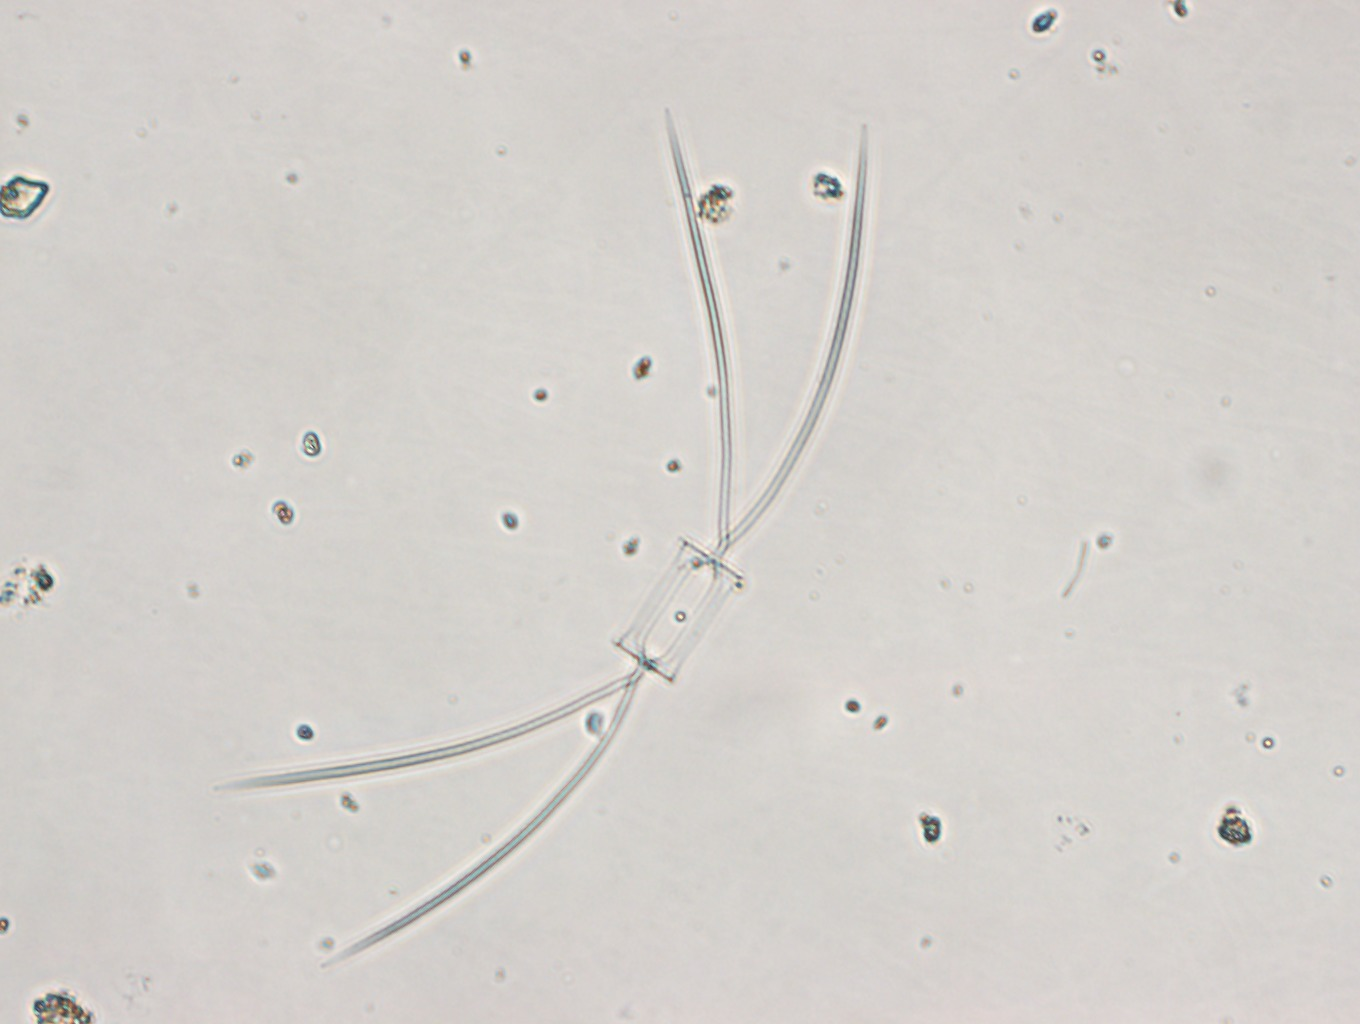chaetoceros: (207, 106, 869, 964)
